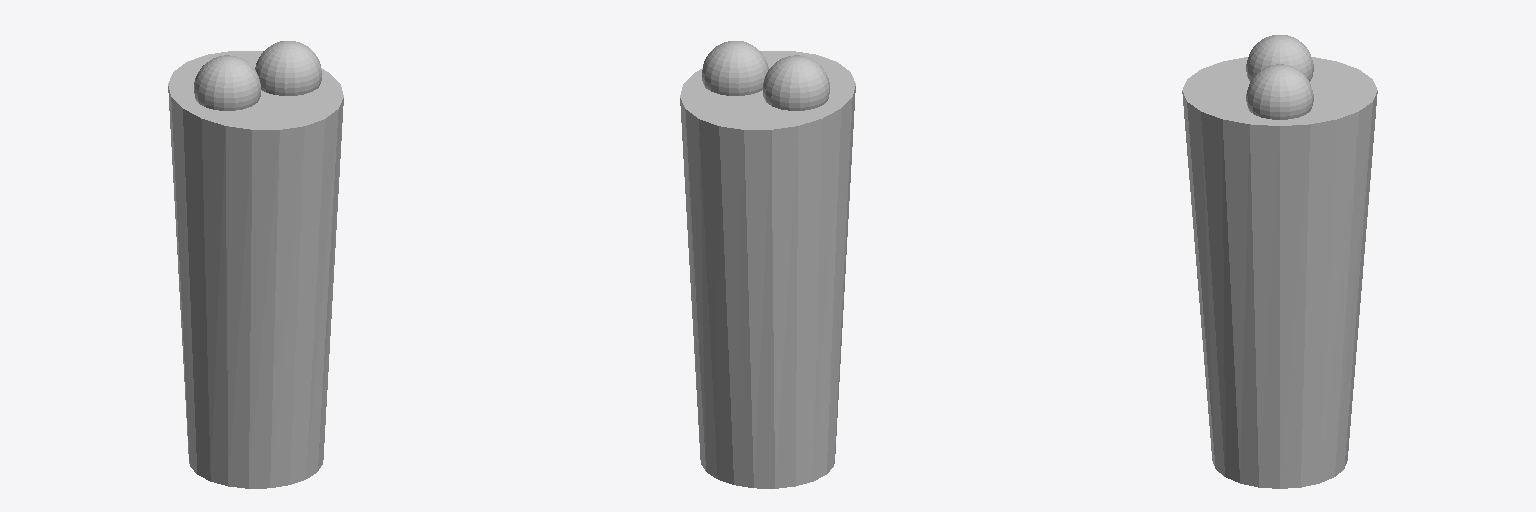
File: Tower_2.obj
The picture shows the model from 3 angles: view 1: azimuth 30°, elevation 25°; view 2: azimuth 150°, elevation 25°; view 3: azimuth 270°, elevation 25°; orthographic projection.
Visible parts, largest first — view 1: pCylinder1, pSphere1, pSphere2; view 2: pCylinder1, pSphere1, pSphere2; view 3: pCylinder1, pSphere2, pSphere1.
Part boxes in pixels (bbox=[...]): pCylinder1: bbox=[168, 51, 343, 488]; pSphere1: bbox=[194, 55, 260, 110]; pSphere2: bbox=[255, 41, 321, 95]; pCylinder1: bbox=[680, 51, 855, 488]; pSphere1: bbox=[763, 55, 829, 110]; pSphere2: bbox=[702, 41, 768, 95]; pCylinder1: bbox=[1182, 57, 1377, 488]; pSphere2: bbox=[1246, 64, 1313, 119]; pSphere1: bbox=[1246, 35, 1313, 81].
Size of the model in its own units: 2.5 by 6.66 by 2.89.